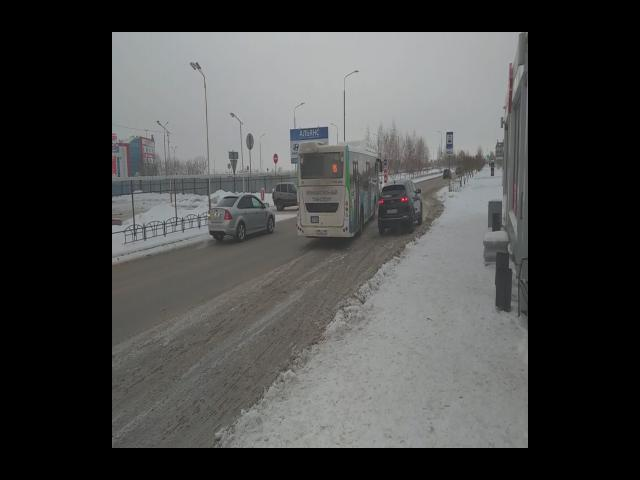bus: (297, 144, 383, 246)
car: (208, 192, 277, 242), (375, 178, 426, 231), (270, 181, 309, 211), (443, 168, 453, 182)
